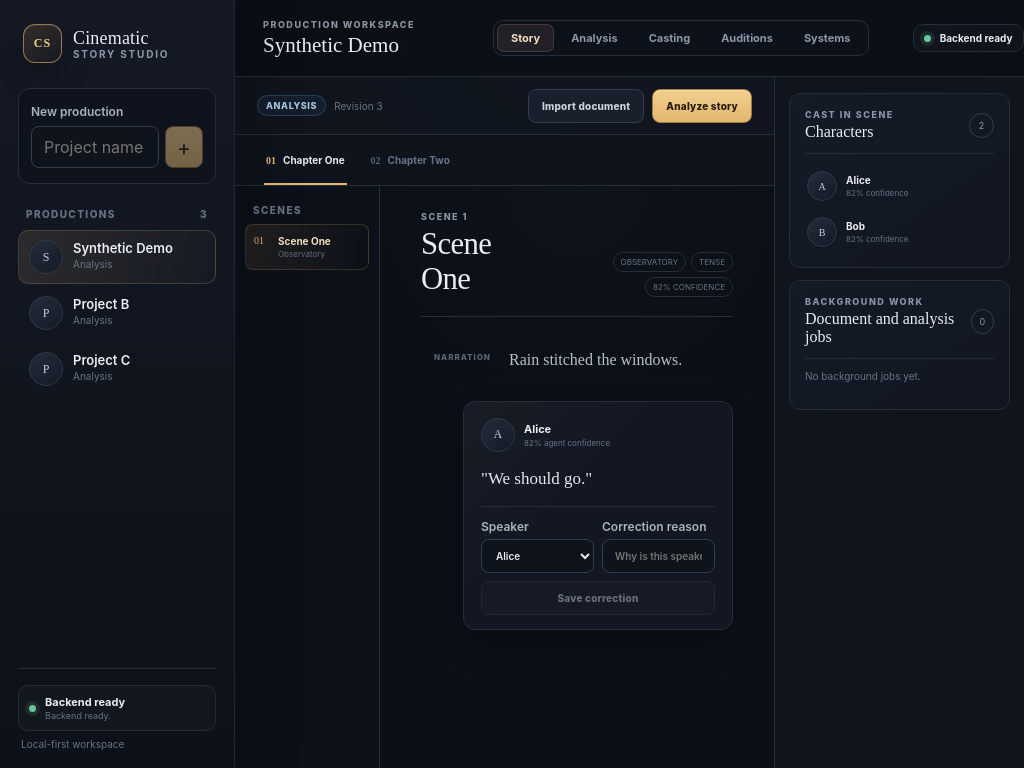
it: Phase 0 desktop workspace › does not auto-open a created project after a newer selection is accepted
The width and height of the screenshot is (1024, 768).
Expected: the text "\"We should go.\"" is shown, [481, 469, 592, 488]
Step 1. Type "Project C" into the field labelled "New production" → (95, 147), box [31, 126, 159, 168]
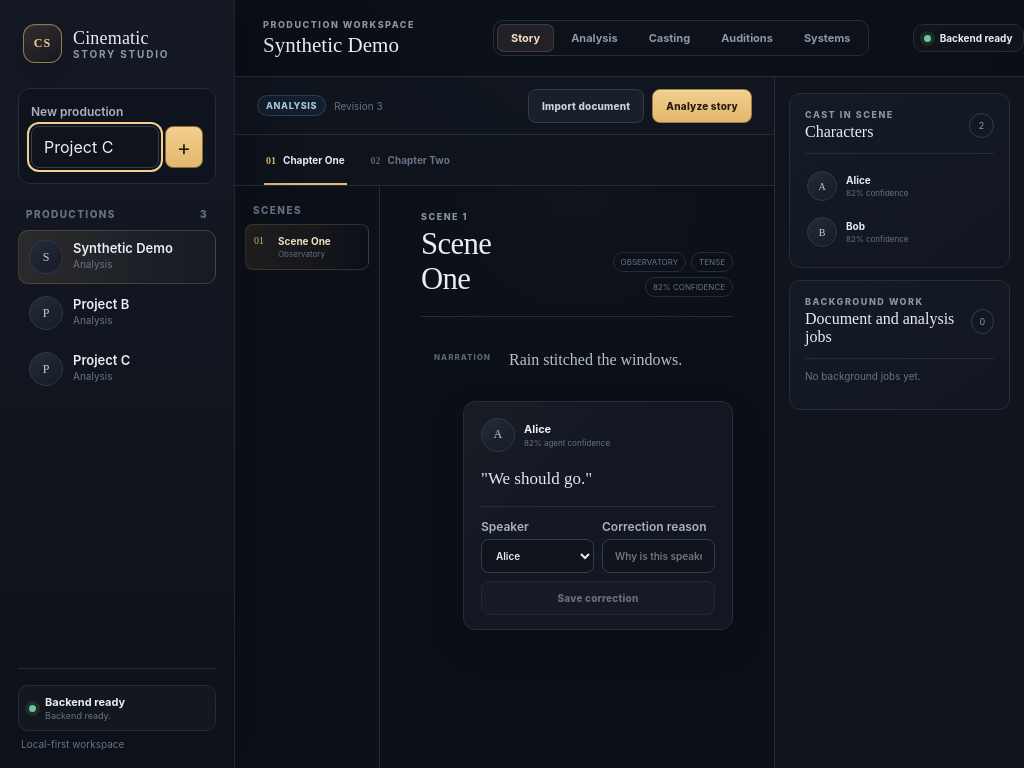
Step 2. Click the button named "Create project" → click(184, 147), box [165, 126, 203, 168]
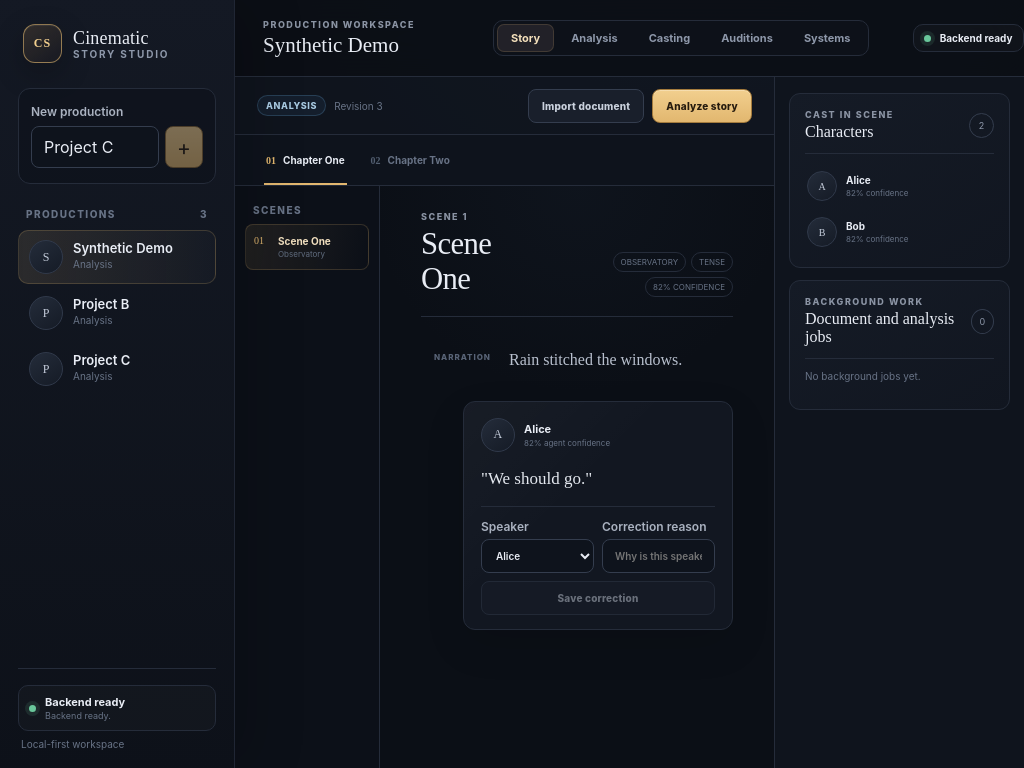
Step 3. Click the button "P Project B Analysis" → click(117, 313), box [18, 286, 216, 340]
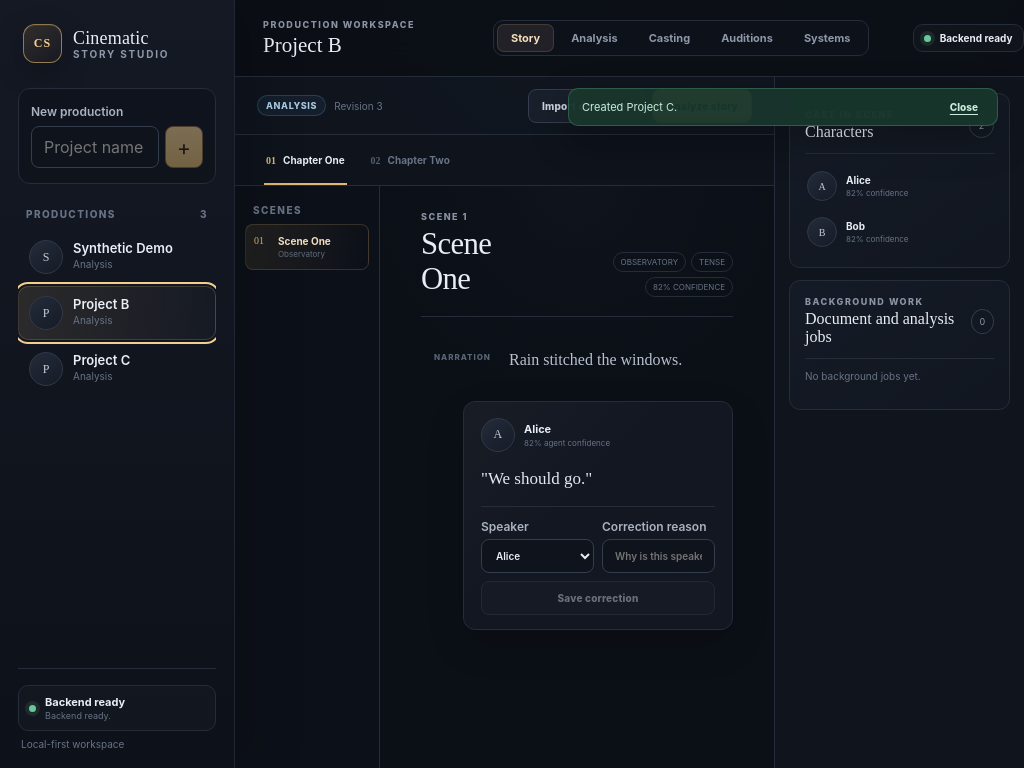
Result: the heading "Project B" is shown at [263, 32, 342, 56]
